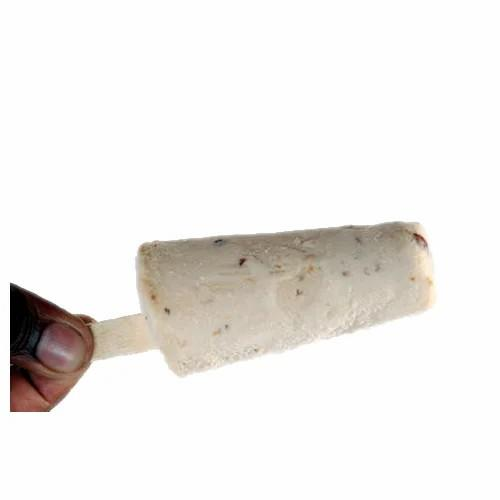Kulfi: (135, 222, 436, 380)
